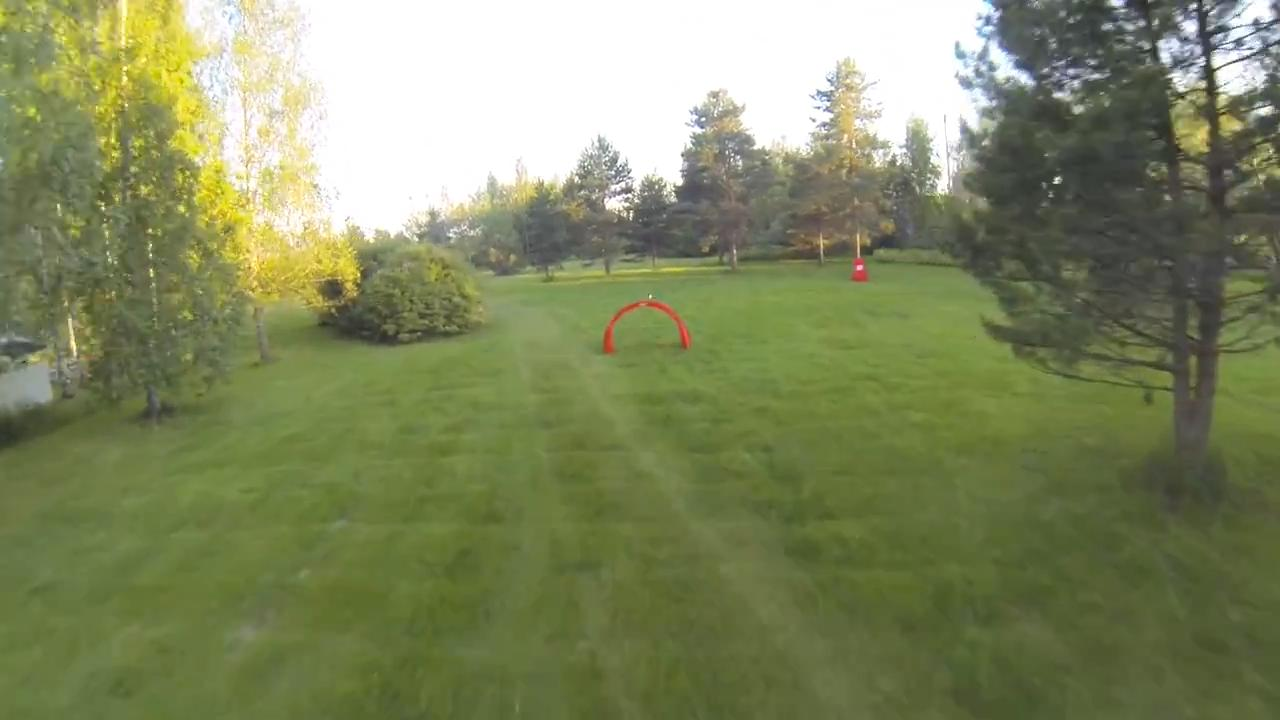gate: (604, 298, 690, 355)
